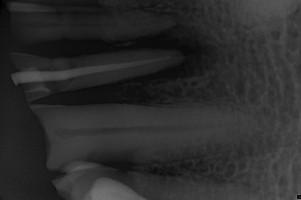Furcation Involvement: (129, 26, 217, 83)
